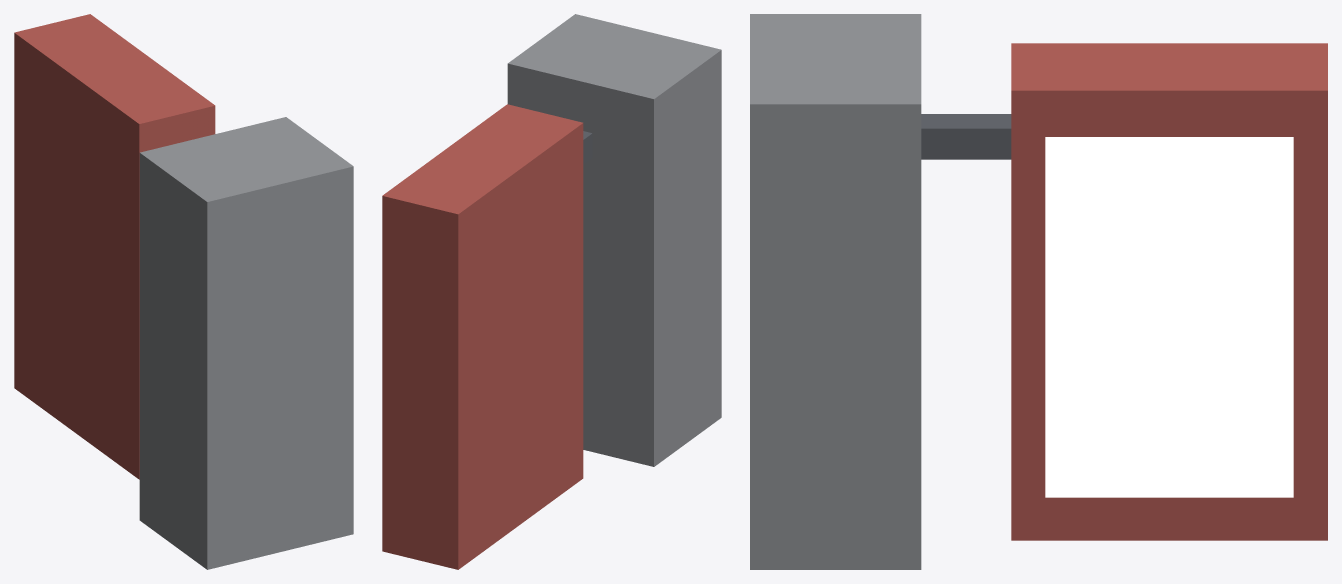
The model's file is prop_kanban_sode_box_a.glb.
3 views of the same model, side by side, from view 1: azimuth 30°, elevation 25°; view 2: azimuth 150°, elevation 25°; view 3: azimuth 270°, elevation 25° (orthographic). The views are drawn at different scales.
Parts seen in each view (by area): view 1: kanban_sode_box_a; view 2: kanban_sode_box_a; view 3: kanban_sode_box_a.
Boxes of the visible parts, x1,y1,x2,y2 form: kanban_sode_box_a: (14, 14, 353, 569); kanban_sode_box_a: (382, 14, 721, 569); kanban_sode_box_a: (750, 14, 1327, 569).
Size of the model in its own units: 0.5 by 1.2 by 1.35.
